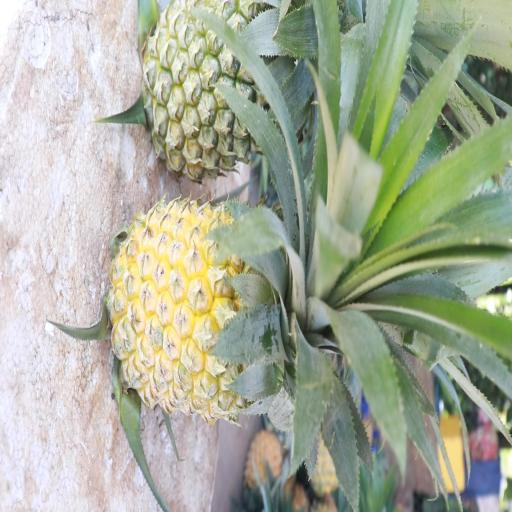------------------------------: (140, 0, 336, 166)
Pineapple - v8 v1: (115, 201, 340, 417)
